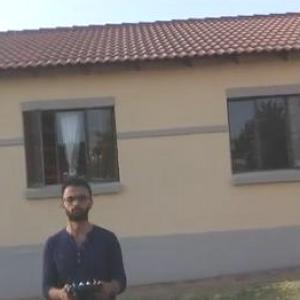follow: (38, 170, 133, 298)
